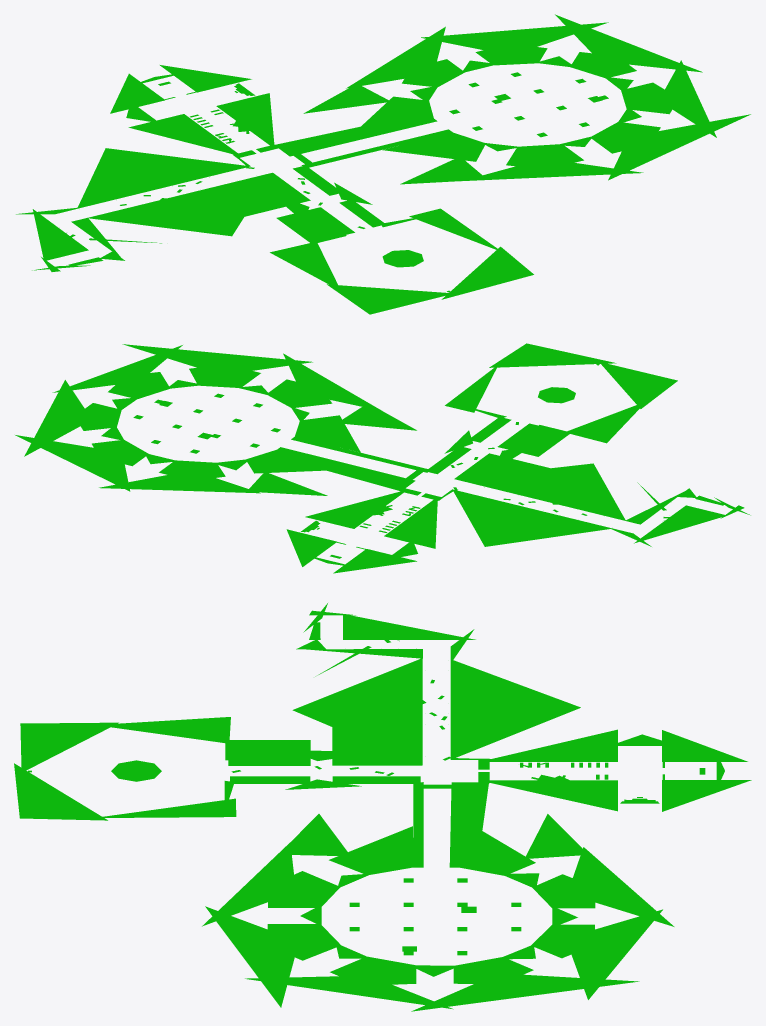
The model's file is colisionesColor.obj.
3 views of the same model, one above another, from view 1: azimuth 30°, elevation 25°; view 2: azimuth 150°, elevation 25°; view 3: azimuth 270°, elevation 25° (orthographic). The views are drawn at different scales.
Parts seen in each view (by area): view 1: Plane.207_Plane.211, Plane.215_Plane.219, Plane.277_Plane.281, Plane.285_Plane.289, Plane.278_Plane.282, Plane.243_Plane.247, Plane.204_Plane.208, Plane.275_Plane.279, Plane.230_Plane.234, Plane.286_Plane.290, Plane.283_Plane.287, Plane.231_Plane.235 (+18 smaller); view 2: Plane.207_Plane.211, Plane.215_Plane.219, Plane.277_Plane.281, Plane.285_Plane.289, Plane.278_Plane.282, Plane.204_Plane.208, Plane.243_Plane.247, Plane.275_Plane.279, Plane.230_Plane.234, Plane.286_Plane.290, Plane.231_Plane.235, Plane.283_Plane.287 (+20 smaller); view 3: Plane.207_Plane.211, Plane.215_Plane.219, Plane.277_Plane.281, Plane.285_Plane.289, Plane.278_Plane.282, Plane.204_Plane.208, Plane.243_Plane.247, Plane.275_Plane.279, Plane.286_Plane.290, Plane.230_Plane.234, Plane.231_Plane.235, Plane.283_Plane.287 (+19 smaller).
Part boxes in pixels (box(x1,y1,x2,y2)): Plane.207_Plane.211: box(87, 173, 271, 236); Plane.215_Plane.219: box(77, 148, 248, 208); Plane.277_Plane.281: box(421, 22, 608, 53); Plane.285_Plane.289: box(608, 114, 750, 180); Plane.278_Plane.282: box(555, 14, 702, 72); Plane.243_Plane.247: box(327, 284, 454, 314); Plane.204_Plane.208: box(441, 246, 533, 299); Plane.275_Plane.279: box(346, 26, 445, 88); Plane.230_Plane.234: box(128, 114, 241, 156); Plane.286_Plane.290: box(659, 60, 716, 137); Plane.283_Plane.287: box(461, 161, 643, 181); Plane.231_Plane.235: box(216, 93, 274, 148); Plane.207_Plane.211: box(454, 463, 625, 520); Plane.215_Plane.219: box(453, 489, 612, 546); Plane.277_Plane.281: box(15, 435, 130, 491); Plane.285_Plane.289: box(122, 344, 312, 373); Plane.278_Plane.282: box(24, 380, 91, 456); Plane.204_Plane.208: box(489, 343, 616, 367); Plane.243_Plane.247: box(599, 362, 677, 408); Plane.275_Plane.279: box(99, 475, 260, 493); Plane.230_Plane.234: box(384, 497, 437, 548); Plane.286_Plane.290: box(52, 345, 182, 392); Plane.231_Plane.235: box(305, 489, 407, 528); Plane.283_Plane.287: box(283, 353, 381, 410); Plane.207_Plane.211: box(292, 658, 422, 764); Plane.215_Plane.219: box(450, 660, 580, 759); Plane.277_Plane.281: box(566, 909, 662, 999); Plane.285_Plane.289: box(205, 906, 294, 1007); Plane.278_Plane.282: box(411, 973, 639, 1011); Plane.204_Plane.208: box(14, 763, 107, 820); Plane.243_Plane.247: box(20, 722, 118, 770); Plane.275_Plane.279: box(572, 847, 674, 926); Plane.286_Plane.290: box(245, 975, 453, 1009); Plane.230_Plane.234: box(482, 729, 617, 761); Plane.231_Plane.235: box(489, 780, 617, 811); Plane.283_Plane.287: box(202, 843, 295, 926).
Bounding box in the file's own units: 783 × 3.1e-05 × 597.
